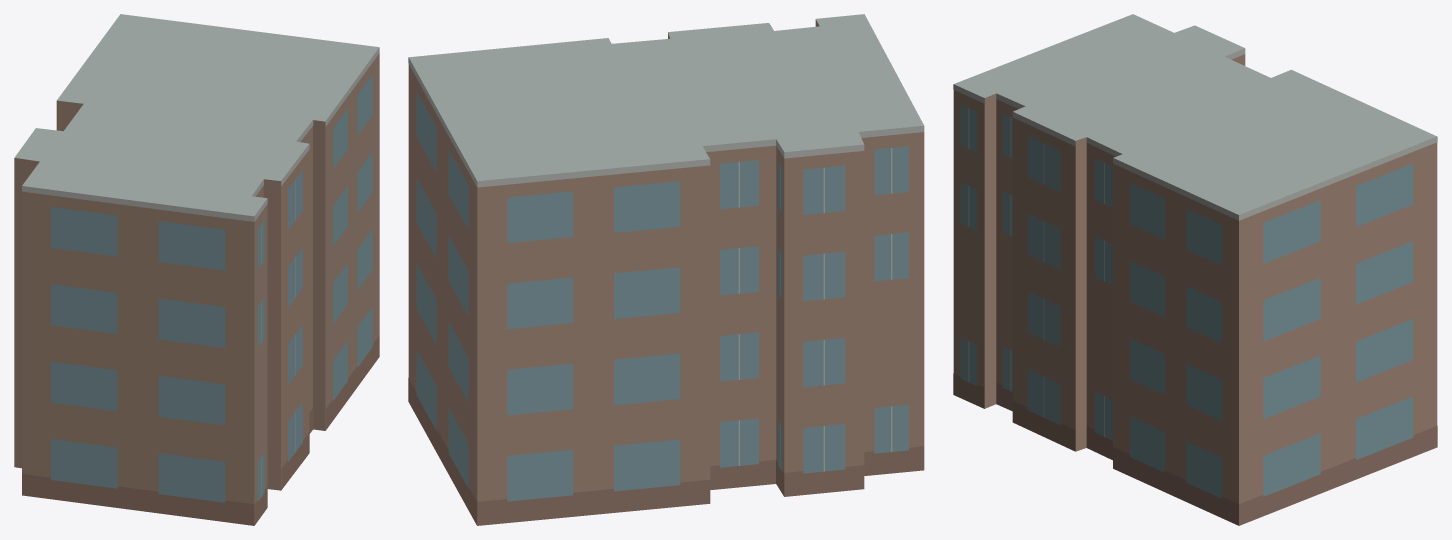
File: survey-upis-32724821.glb
The picture shows the model from 3 angles, left to right: view 1: azimuth 30°, elevation 25°; view 2: azimuth 150°, elevation 25°; view 3: azimuth 270°, elevation 25°; orthographic projection. The views are drawn at different scales.
Visible parts, largest first — view 1: survey-upis-32724821.tmp; view 2: survey-upis-32724821.tmp; view 3: survey-upis-32724821.tmp.
Boxes of the visible parts, left/top/right/bottom form: survey-upis-32724821.tmp: left=14, top=14, right=379, bottom=525; survey-upis-32724821.tmp: left=408, top=14, right=924, bottom=525; survey-upis-32724821.tmp: left=953, top=14, right=1437, bottom=525.
Bounding box in the file's own units: 18.6 × 13.4 × 18.91.
